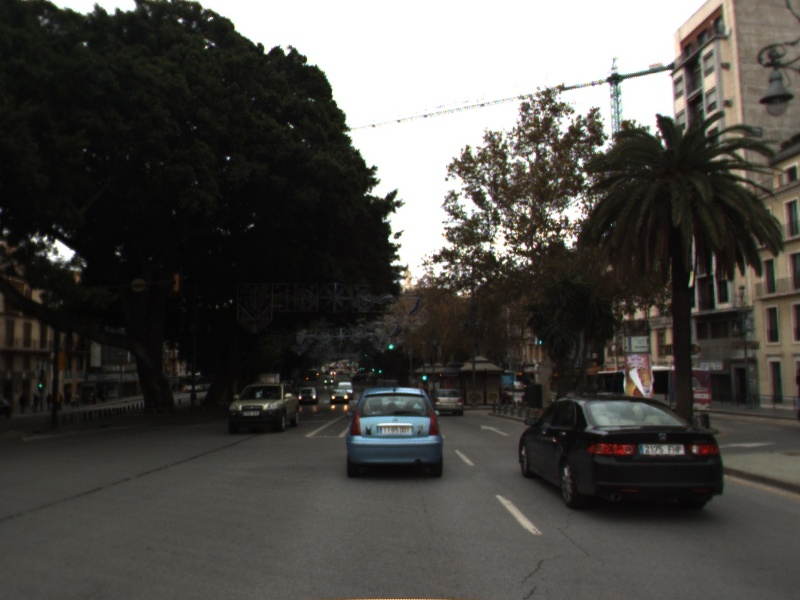STRAIGHT: (479, 423, 511, 438)
